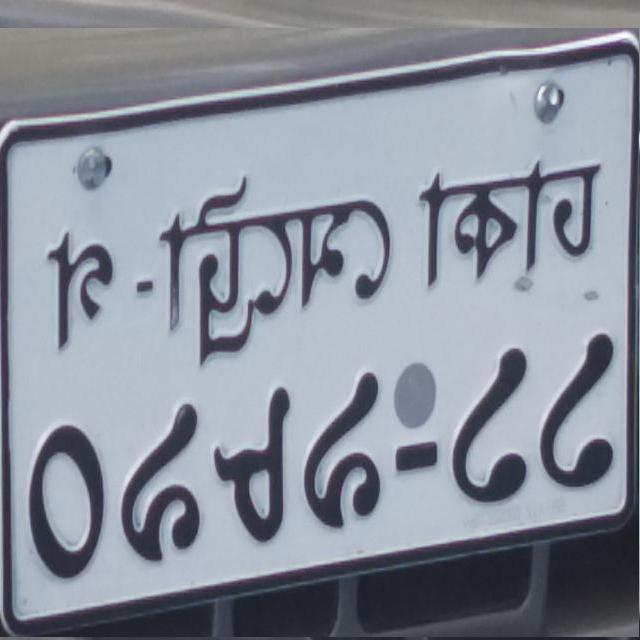numberplate: (0, 28, 639, 637)
